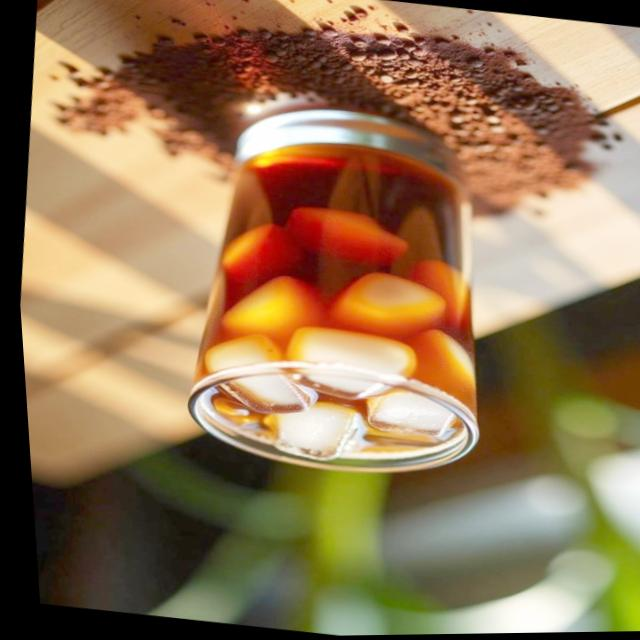drink: (188, 144, 471, 474)
